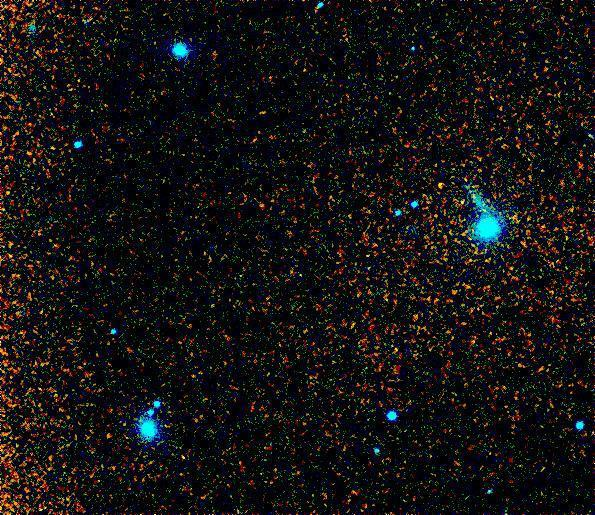star: (426, 171, 456, 201)
